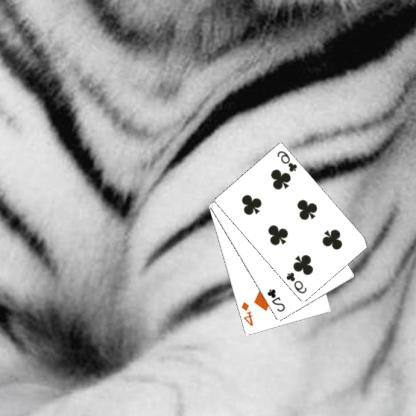2C: (266, 286, 288, 314)
4D: (240, 300, 256, 327)
6C: (285, 270, 310, 296), (276, 148, 300, 174)
